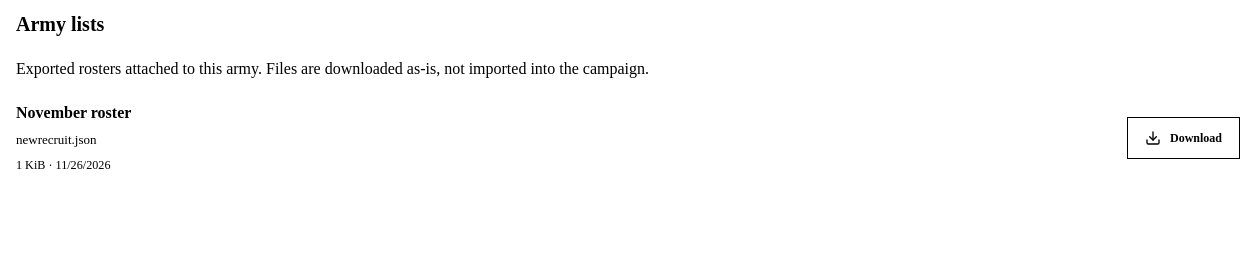
Test case: requests a fresh download when clicked and reports signing failures
Click the button with aria-label "Download November roster" at (1184, 138), box 1127,117 -> 1240,159
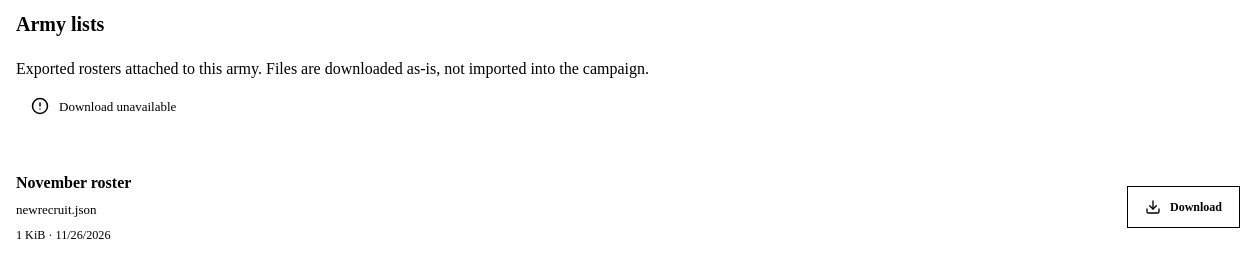
Expected: the message reads "Download unavailable", 59,99 -> 176,114
